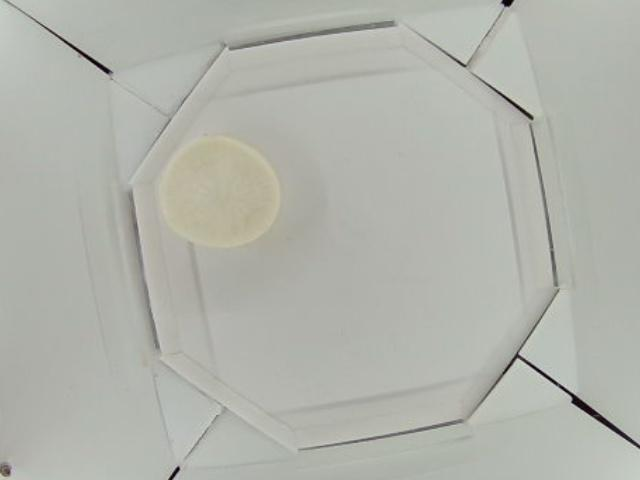Mooli: (158, 137, 281, 250)
